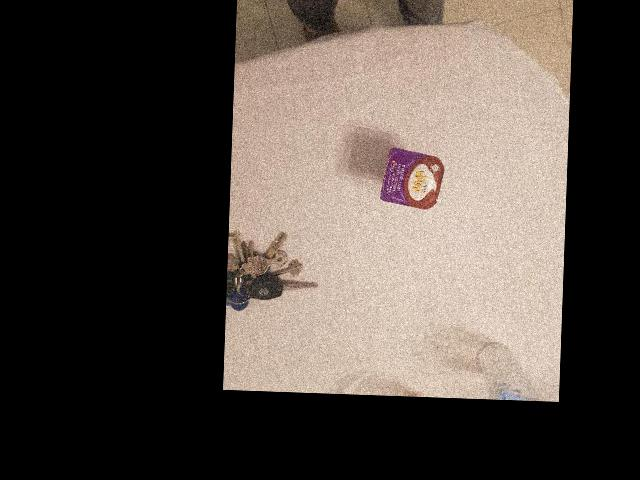milky: (415, 206, 485, 280)
